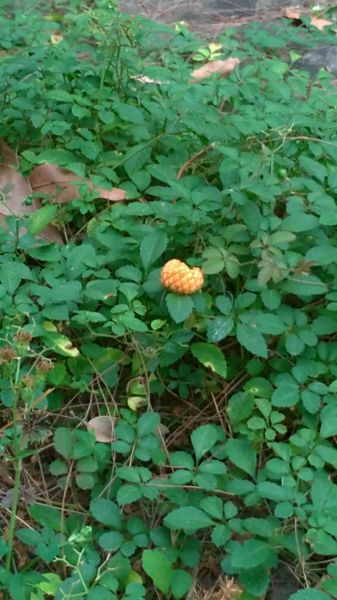eggs: (158, 255, 208, 298)
